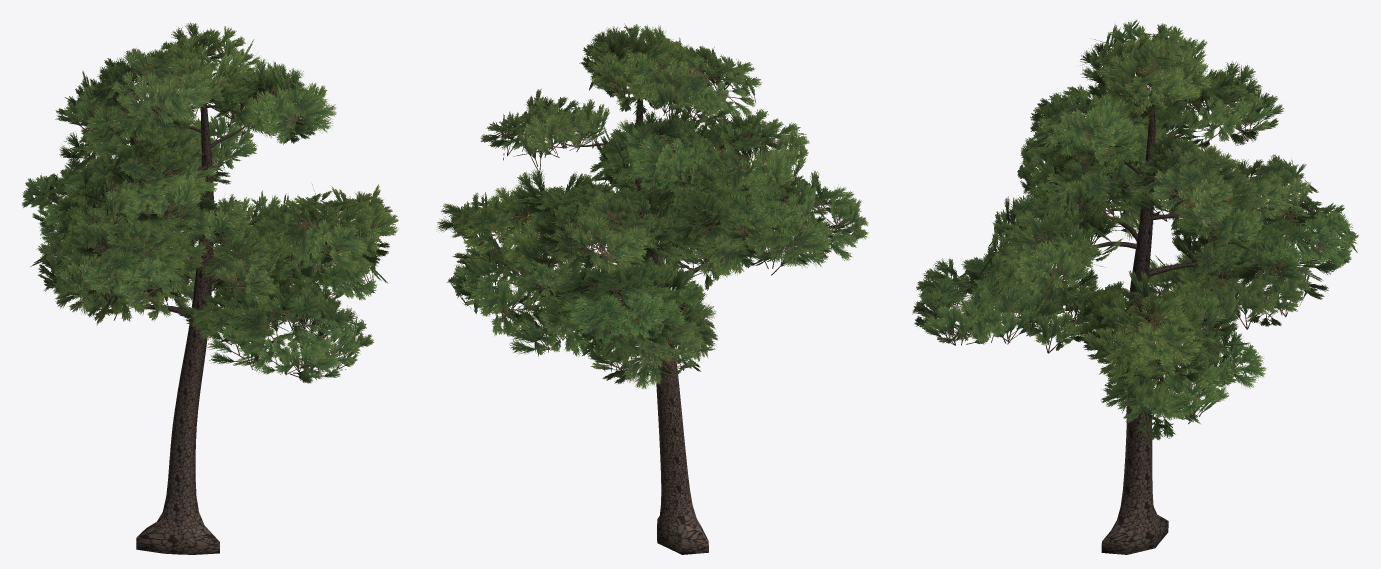
File: tree_pine_far.glb
3 renders of one model, left to right at view 1: azimuth 30°, elevation 25°; view 2: azimuth 150°, elevation 25°; view 3: azimuth 270°, elevation 25°, orthographic.
Parts seen in each view (by area): view 1: pine_far_needles, pine_far_trunk; view 2: pine_far_needles, pine_far_trunk; view 3: pine_far_needles, pine_far_trunk.
Part boxes in pixels (x1,y1,x2,y2): pine_far_needles: (22,22,398,383); pine_far_trunk: (126,94,283,554); pine_far_needles: (437,23,868,388); pine_far_trunk: (518,97,708,554); pine_far_needles: (912,19,1358,440); pine_far_trunk: (1055,89,1226,554).
Bounding box in the file's own units: 9.05 × 11.45 × 9.23.
Materials: 2 (2 with a texture image).
